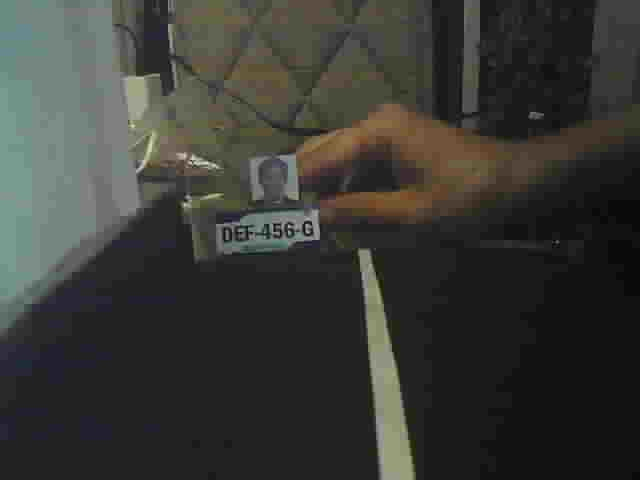PLACA: (215, 208, 323, 255)
ROSTRO: (247, 153, 300, 203)
